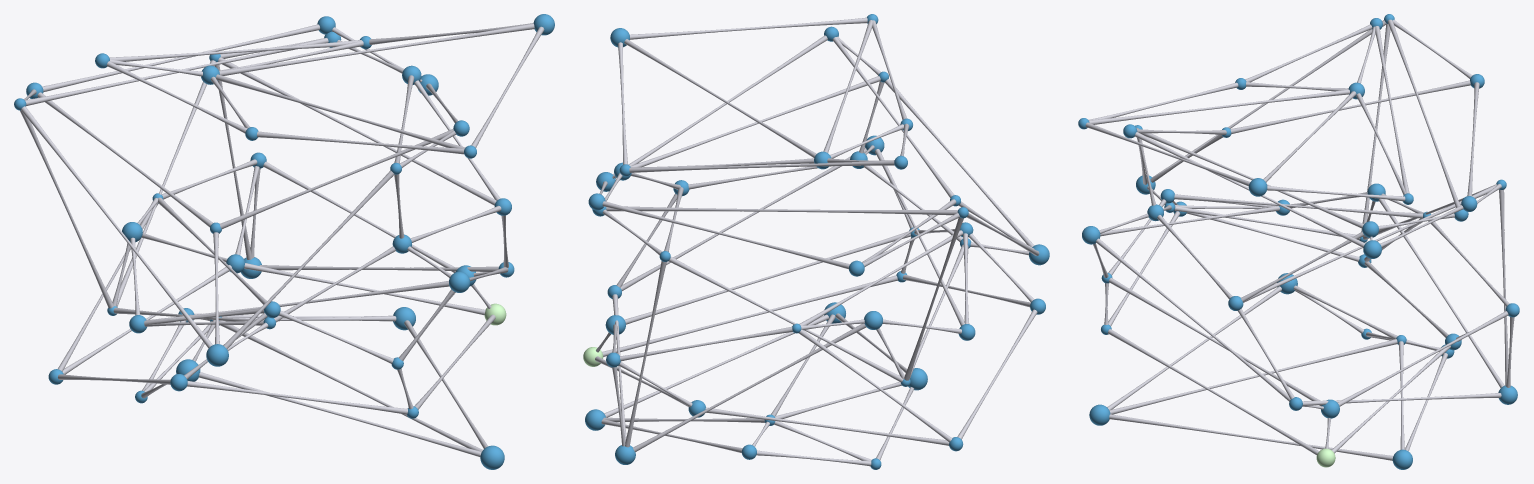
3 views of the same model, side by side, from view 1: azimuth 30°, elevation 25°; view 2: azimuth 150°, elevation 25°; view 3: azimuth 270°, elevation 25° (orthographic). The views are drawn at different scales.
Parts seen in each view (by area): view 1: Cilindro_1_19, Cilindro_1_46, Cilindro_1_31, Cilindro_1_52, Cilindro_1_11, Cilindro_1_33, Cilindro_1_65, Cilindro_1_53, Cilindro_1_36, Cilindro_1_61, Cilindro_1_63, Cilindro_1_6 (+17 smaller); view 2: Cilindro_1_31, Cilindro_1_69, Cilindro_1_68, Cilindro_1_36, Cilindro_1_29, Cilindro_1_33, Cilindro_1_72, Cilindro_1_27, Cilindro_1_26, Cilindro_1_74, Cilindro_1_70, Cilindro_1_73 (+19 smaller); view 3: Cilindro_1_53, Cilindro_1_67, Cilindro_1_65, Cilindro_1_39, Cilindro_1_70, Cilindro_1_69, Cilindro_1_48, Cilindro_1_73, Cilindro_1_11, Cilindro_1_68, Cilindro_1_72, Cilindro_1_27 (+18 smaller).
Part boxes in pixels (x1=…): Cilindro_1_19: x1=219, y1=23, x2=534, y2=75; Cilindro_1_46: x1=21, y1=106, x2=212, y2=348; Cilindro_1_31: x1=25, y1=38, x2=328, y2=106; Cilindro_1_52: x1=198, y1=372, x2=481, y2=456; Cilindro_1_11: x1=218, y1=57, x2=496, y2=205; Cilindro_1_33: x1=42, y1=24, x2=319, y2=92; Cilindro_1_65: x1=215, y1=74, x2=465, y2=148; Cilindro_1_53: x1=219, y1=320, x2=482, y2=451; Cilindro_1_36: x1=109, y1=40, x2=361, y2=61; Cilindro_1_61: x1=223, y1=170, x2=394, y2=349; Cilindro_1_63: x1=220, y1=129, x2=453, y2=229; Cilindro_1_6: x1=244, y1=263, x2=485, y2=315; Cilindro_1_31: x1=606, y1=206, x2=957, y2=215; Cilindro_1_69: x1=602, y1=275, x2=897, y2=356; Cilindro_1_68: x1=625, y1=231, x2=910, y2=324; Cilindro_1_36: x1=629, y1=160, x2=894, y2=172; Cilindro_1_29: x1=668, y1=256, x2=903, y2=382; Cilindro_1_33: x1=602, y1=201, x2=849, y2=269; Cilindro_1_72: x1=630, y1=76, x2=880, y2=167; Cilindro_1_27: x1=633, y1=323, x2=866, y2=451; Cilindro_1_26: x1=705, y1=407, x2=949, y2=445; Cilindro_1_74: x1=630, y1=17, x2=867, y2=39; Cilindro_1_70: x1=620, y1=148, x2=866, y2=290; Cilindro_1_73: x1=613, y1=35, x2=827, y2=178; Cilindro_1_53: x1=1109, y1=339, x2=1397, y2=414; Cilindro_1_67: x1=1109, y1=414, x2=1393, y2=460; Cilindro_1_65: x1=1089, y1=89, x2=1349, y2=124; Cilindro_1_39: x1=1174, y1=194, x2=1422, y2=218; Cilindro_1_70: x1=1096, y1=238, x2=1290, y2=401; Cilindro_1_69: x1=1108, y1=329, x2=1319, y2=455; Cilindro_1_48: x1=1230, y1=80, x2=1470, y2=133; Cilindro_1_73: x1=1134, y1=132, x2=1365, y2=247; Cilindro_1_11: x1=1243, y1=184, x2=1496, y2=302; Cilindro_1_68: x1=1109, y1=278, x2=1321, y2=406; Cilindro_1_72: x1=1141, y1=129, x2=1363, y2=228; Cilindro_1_27: x1=1378, y1=198, x2=1504, y2=387.
Bounding box in the file's own units: 5.09 × 3.82 × 4.84.
